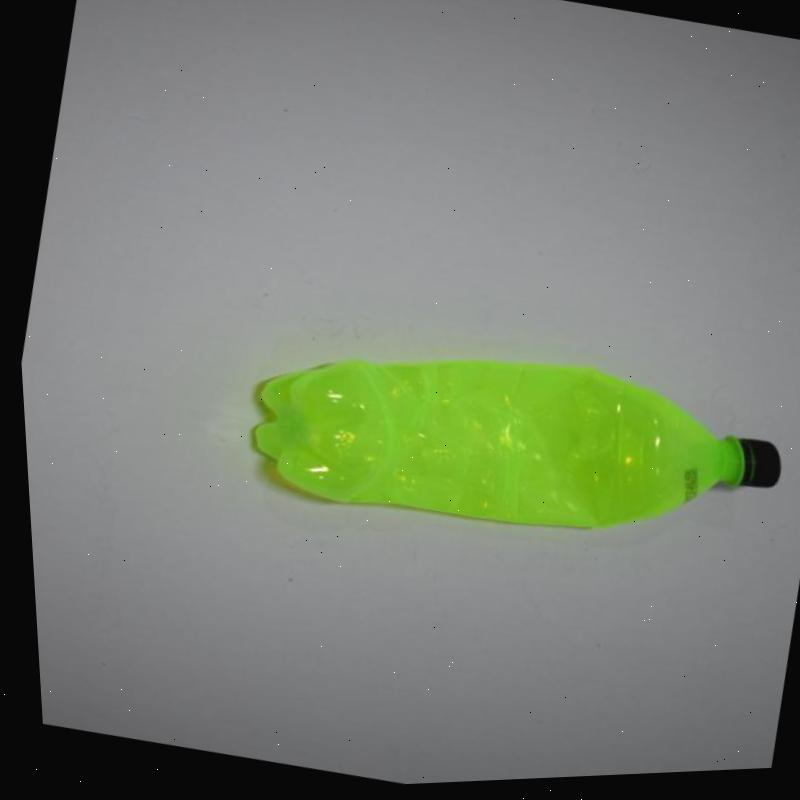botella: (226, 298, 796, 603)
